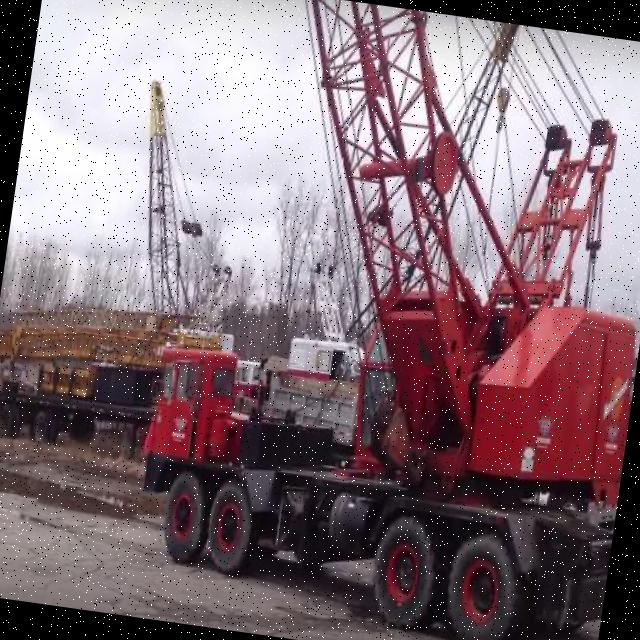Mobile Crane: (124, 0, 640, 640)
